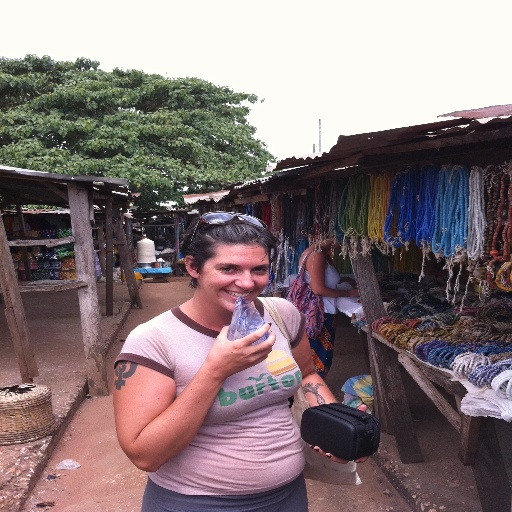hand: (305, 403, 368, 464), (208, 329, 278, 374), (349, 290, 361, 299)
